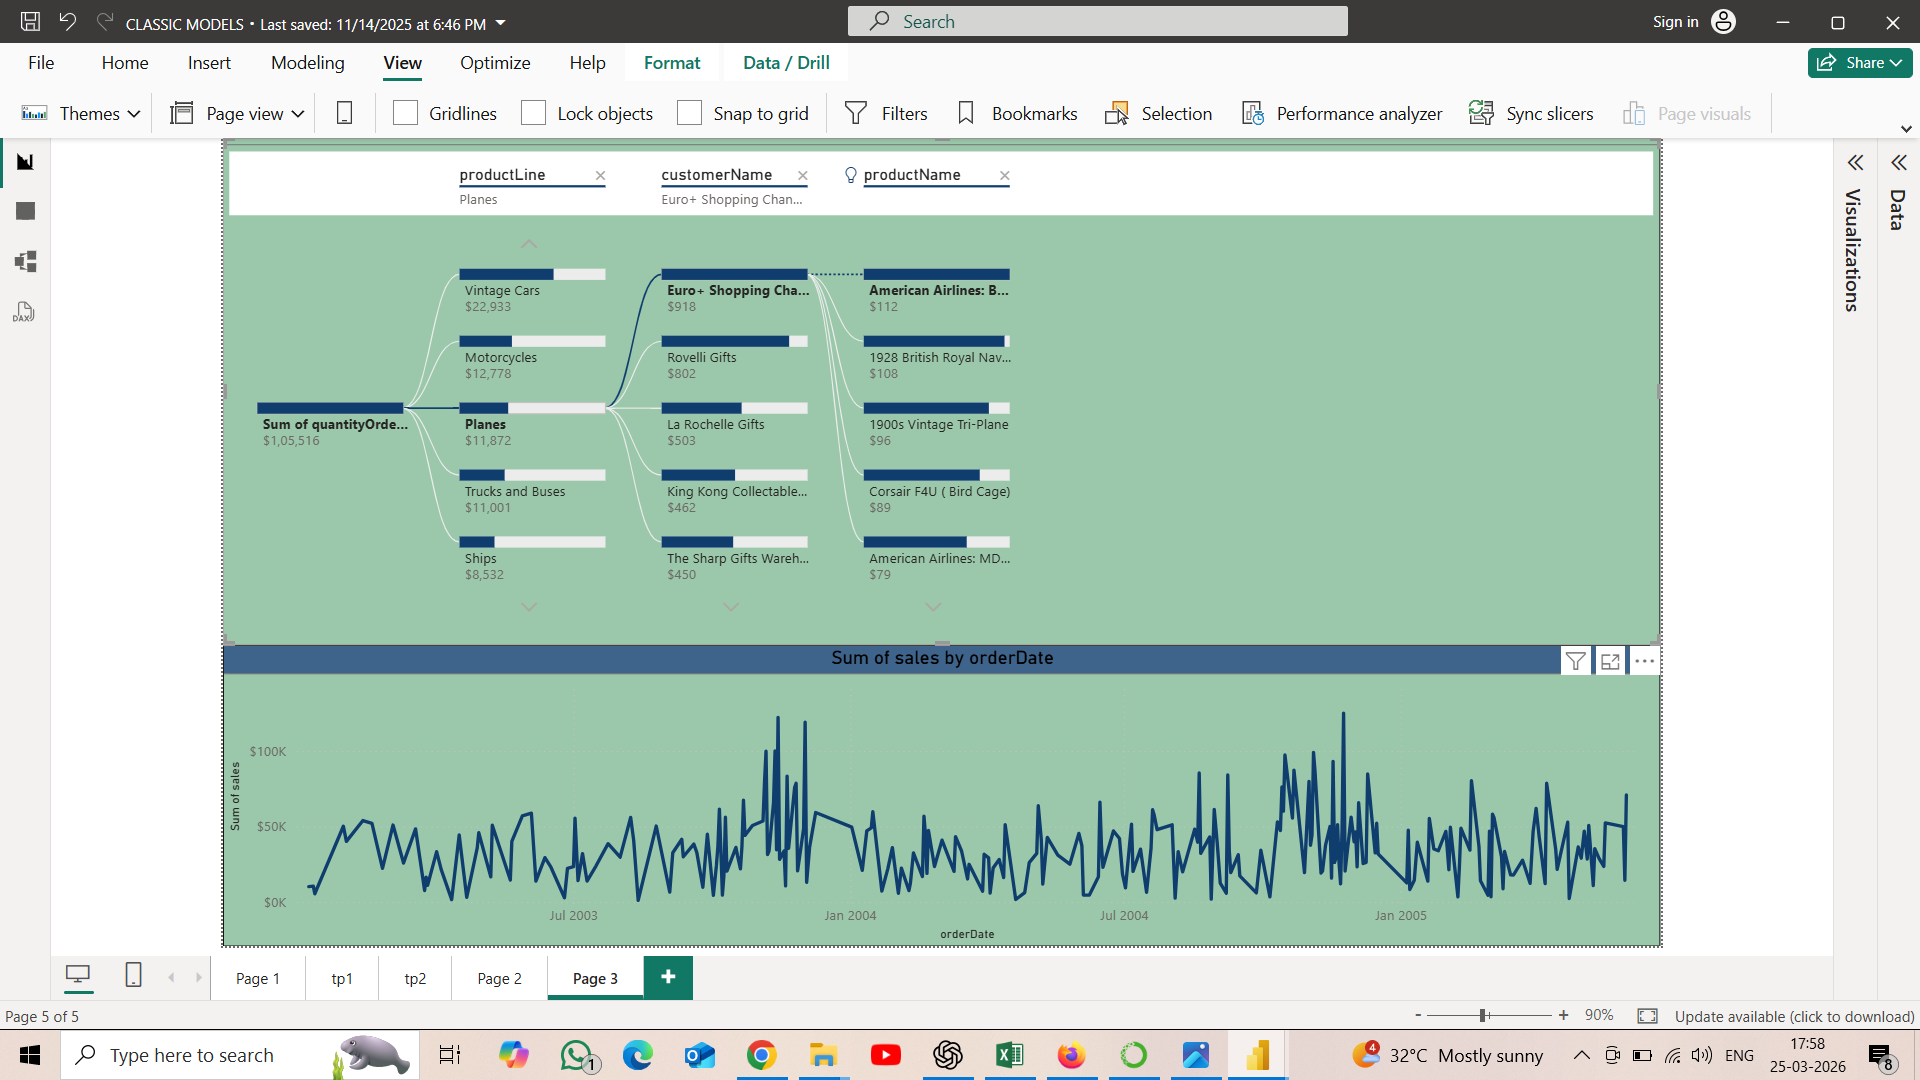

This screenshot's page, from the dashboard's own definition file:
{"tool":"powerbi","page":{"name":"Page 3","canvas":[1280,720],"ordinal":4},"visuals":[{"type":"decompositionTreeVisual","fields":{"Analyze":["Sum(order details.quantityOrdered)"],"ExplainBy":["productlines.productLine","CUSTOMERS.customerName","products.productName"]},"box":[48.5,11.4,724.1,440.4],"z":0},{"type":"keyDriversVisual","fields":{"Target":["order details.sales"],"ExplainBy":["products.productDescription"]},"box":[772.6,11.4,507.4,708.4],"z":1000},{"type":"lineChart","fields":{"Category":["orders.orderDate"],"Y":["Sum(order details.sales)"]},"box":[48,451,724,268],"z":2000}]}

Visuals, with their boxes on the page's 1280x720 design canvas (x1, y1, x2, y2). These are canvas units, not pixel positions in the 1920x1080 screenshot, which may show the page scaled, cropped or inside an application window:
decompositionTreeVisual - Sum(order details.quantityOrdered) x productlines.productLine: {"left": 48, "top": 11, "right": 773, "bottom": 452}
keyDriversVisual - order details.sales x products.productDescription: {"left": 773, "top": 11, "right": 1280, "bottom": 720}
lineChart - orders.orderDate x Sum(order details.sales): {"left": 48, "top": 451, "right": 772, "bottom": 719}
